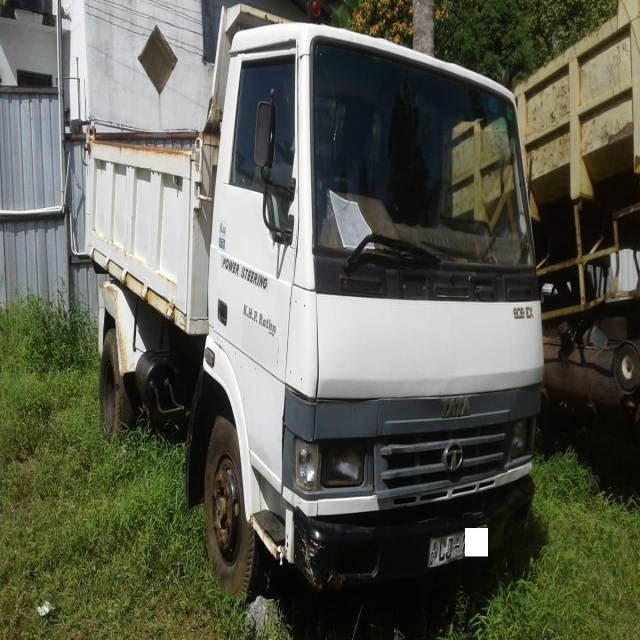Truck: (84, 3, 545, 608)
